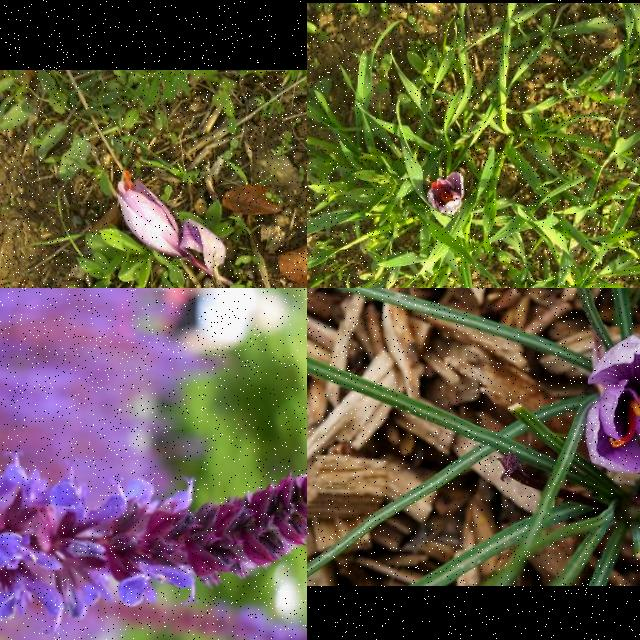flower: (587, 337, 640, 473), (116, 171, 184, 257), (427, 171, 465, 217)
